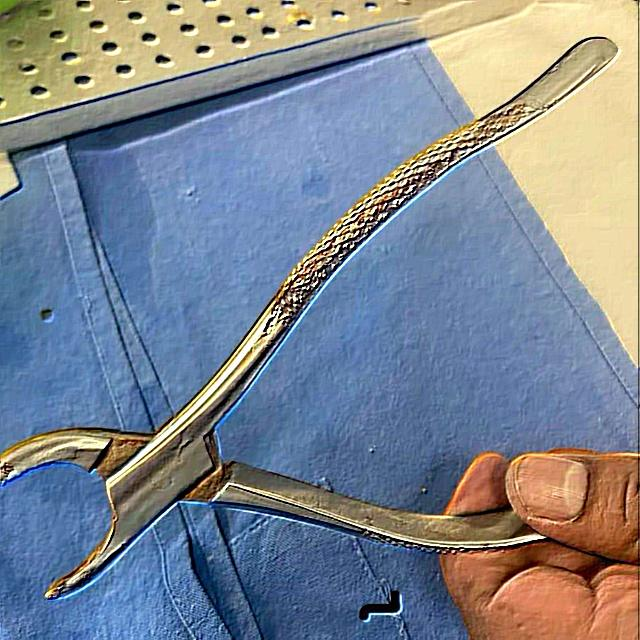forceps: (0, 36, 620, 601), (214, 468, 544, 552)
